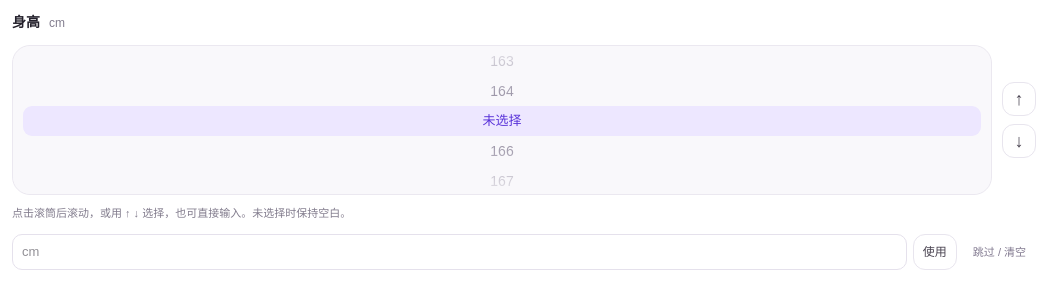
Test: 资料滚筒控件 › 明确上下按钮选择并调整，清空后保持未选择
Click the button named "增大身高".
click(1019, 99)  # box [1002,82,1036,116]
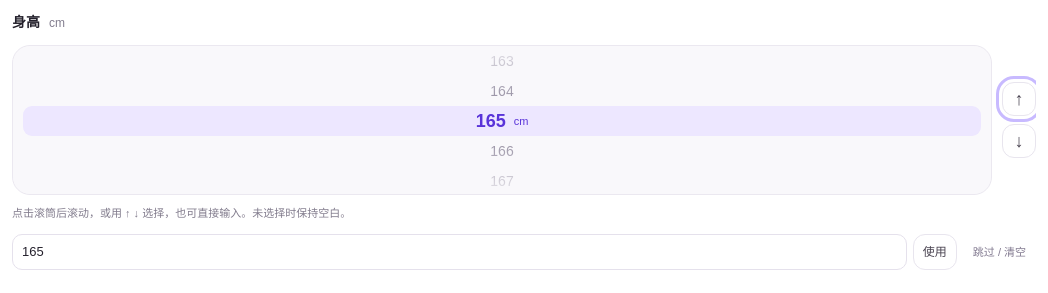
Click the button named "增大身高".
click(1019, 99)  # box [1002,82,1036,116]
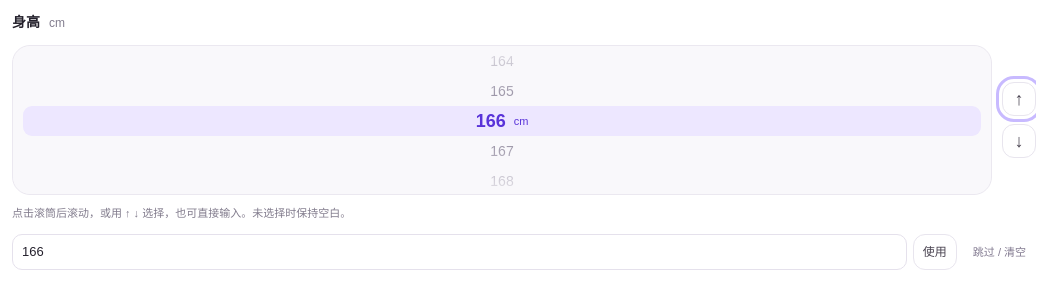
Check: the number field has attribute aria-valuenow="166", box [12,45,992,195]
Click the button named "减小身高".
click(1019, 141)  # box [1002,124,1036,158]
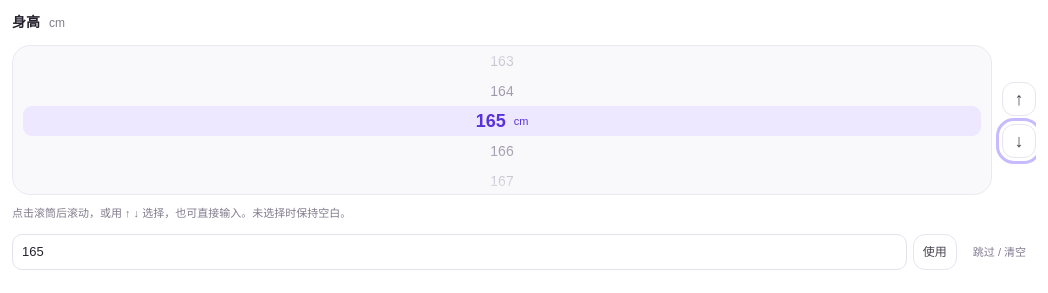
Click the button with aria-label "清空或跳过身高".
click(999, 252)  # box [963,234,1036,270]
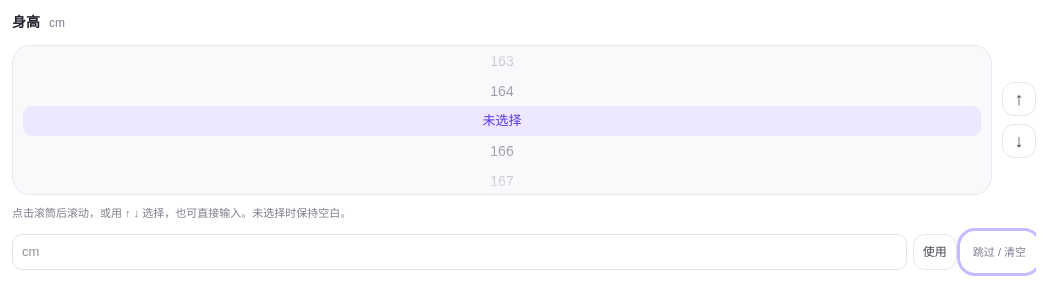
Check: the field is empty, box [12,234,907,270]
